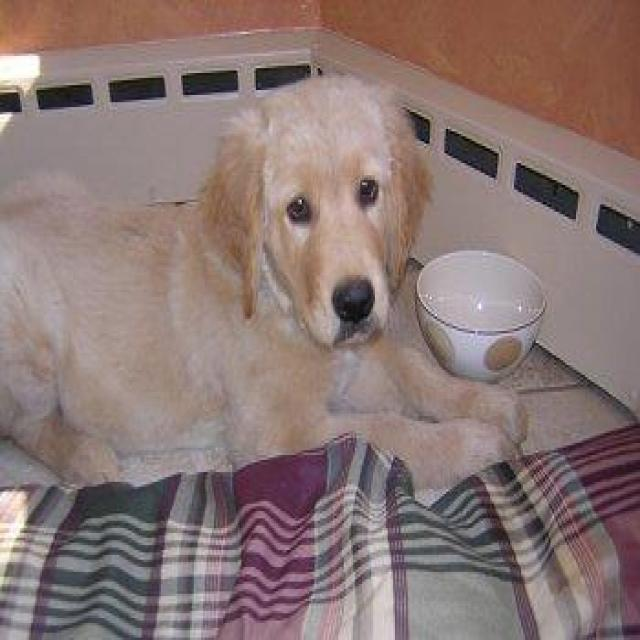puppy-dog: (1, 59, 530, 492)
